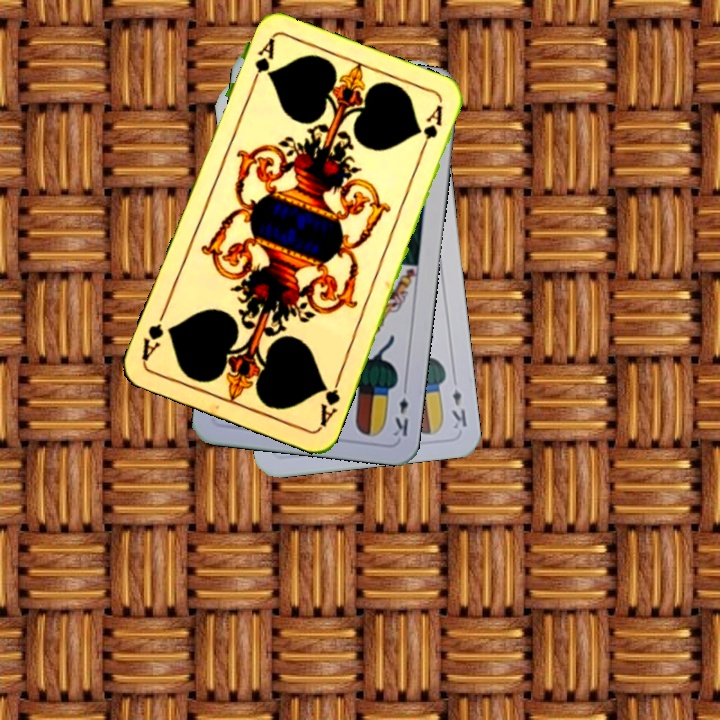EK: (389, 380, 411, 439), (448, 385, 470, 432)
GA: (246, 35, 277, 92), (316, 372, 343, 430)
